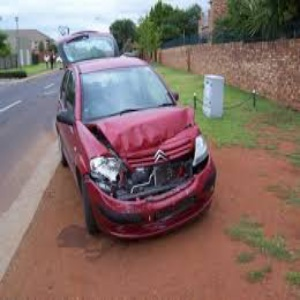bonnet: (100, 108, 198, 141)
bumper: (83, 178, 201, 239)
